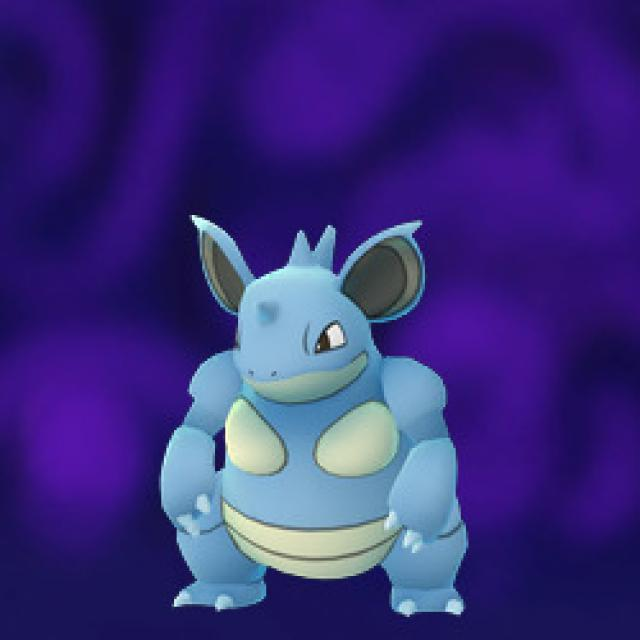Nidoqueen: (159, 215, 475, 618)
